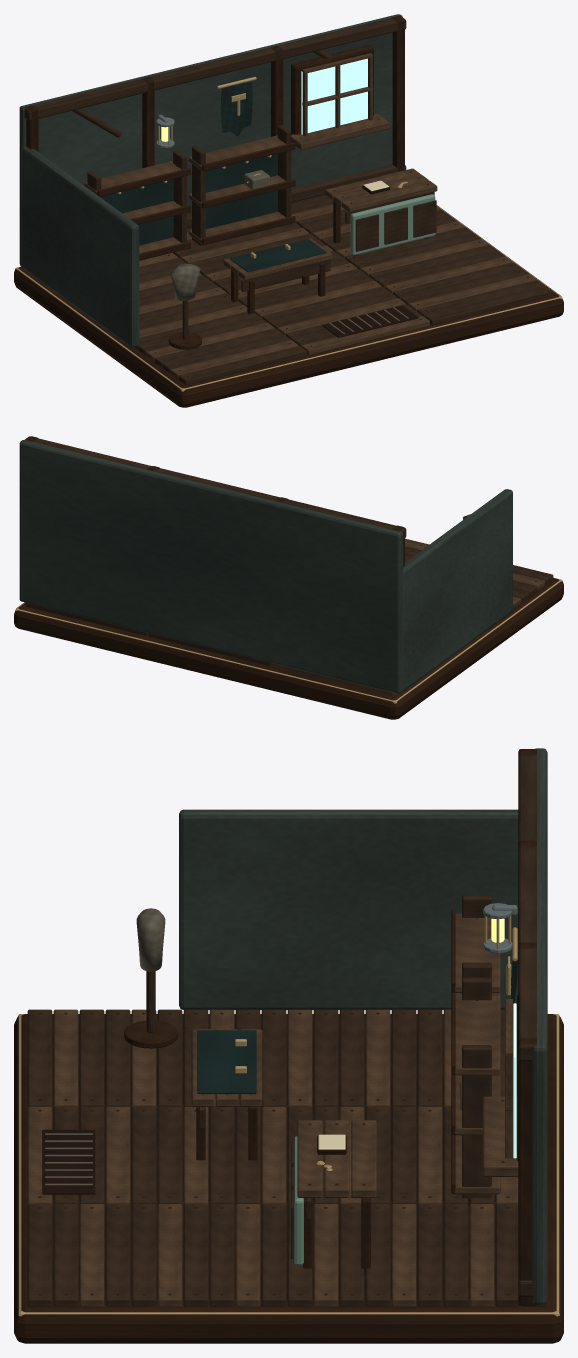
The model's file is showroom.glb.
3 views of the same model, one above another, from view 1: azimuth 30°, elevation 25°; view 2: azimuth 150°, elevation 25°; view 3: azimuth 270°, elevation 25° (orthographic). The views are drawn at different scales.
Parts seen in each view (by area): view 1: Environment_Oak honey.001, Environment_Sage plaster.001, Environment_Oak end grain.001, Environment_Oak cut edge.001, Environment_House teal, Environment_Window sky.001, Environment_Aged brass.001, Environment_Warm linen.001, Environment_Painted pine, Environment_Oiled leather.001, Woven house pennant.001; view 2: Environment_Sage plaster.001, Environment_Oak end grain.001, Environment_Oak honey.001, Environment_Aged brass.001, Environment_Oak cut edge.001; view 3: Environment_Oak honey.001, Environment_Sage plaster.001, Environment_Oak cut edge.001, Environment_Oak end grain.001, Environment_Aged brass.001, Environment_House teal, Environment_Oiled leather.001, Environment_Warm linen.001, Environment_Painted pine, Environment_Blackened iron.001.
Part boxes in pixels (x1,y1,x2,y2): Environment_Oak honey.001: (24, 15, 553, 384); Environment_Sage plaster.001: (19, 14, 402, 347); Environment_Oak end grain.001: (14, 16, 563, 407); Environment_Oak cut edge.001: (84, 53, 536, 379); Environment_House teal: (101, 153, 326, 272); Environment_Window sky.001: (301, 58, 367, 134); Environment_Aged brass.001: (15, 77, 562, 391); Environment_Warm linen.001: (170, 170, 408, 334); Environment_Painted pine: (350, 194, 435, 255); Environment_Oiled leather.001: (322, 185, 418, 337); Woven house pennant.001: (221, 82, 252, 136); Environment_Sage plaster.001: (19, 440, 512, 693); Environment_Oak end grain.001: (14, 436, 563, 719); Environment_Oak honey.001: (24, 436, 553, 665); Environment_Aged brass.001: (15, 578, 562, 703); Environment_Oak cut edge.001: (272, 538, 545, 695); Environment_Oak honey.001: (27, 749, 546, 1306); Environment_Sage plaster.001: (179, 748, 547, 1304); Environment_Oak cut edge.001: (27, 914, 518, 1306); Environment_Oak end grain.001: (14, 749, 563, 1343); Environment_Aged brass.001: (18, 915, 559, 1316); Environment_House teal: (197, 1030, 256, 1093); Environment_Oiled leather.001: (42, 1129, 346, 1194); Environment_Warm linen.001: (45, 908, 461, 1185); Environment_Painted pine: (294, 1136, 303, 1265); Environment_Blackened iron.001: (483, 903, 517, 953).
Bounding box in the file's own units: 7.2 × 3.31 × 5.5.
13 materials, 7 textured.
